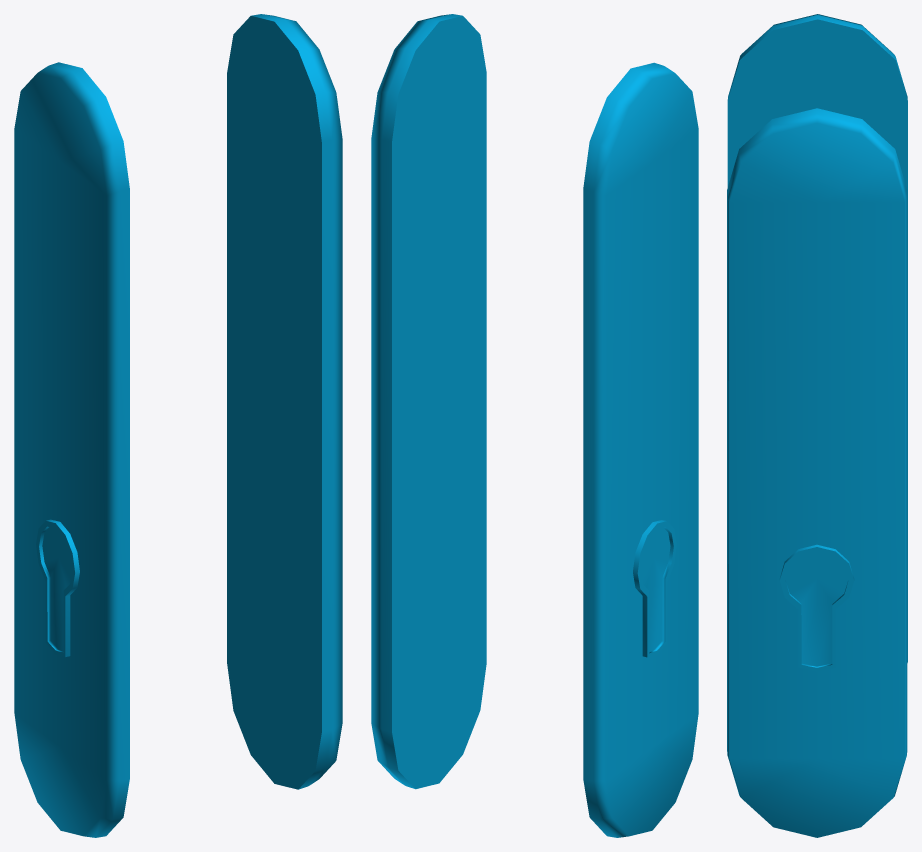
The model's file is Door_C_03_Metal.fbx.
3 views of the same model, side by side, from view 1: azimuth 30°, elevation 25°; view 2: azimuth 150°, elevation 25°; view 3: azimuth 270°, elevation 25° (orthographic). The views are drawn at different scales.
Parts seen in each view (by area): view 1: Door_C_03_Metal; view 2: Door_C_03_Metal; view 3: Door_C_03_Metal.
Boxes of the visible parts, box(x1,y1,x2,y2) form: Door_C_03_Metal: box(14, 14, 342, 837); Door_C_03_Metal: box(371, 14, 698, 837); Door_C_03_Metal: box(727, 14, 907, 837).
Size of the model in its own units: 9.12 by 27.09 by 6.12.
